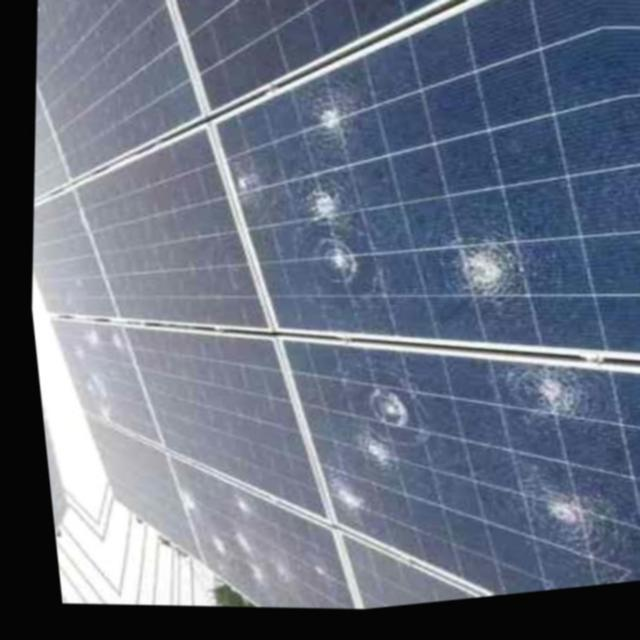cracked: (227, 7, 640, 336), (280, 332, 640, 590), (171, 462, 347, 616), (33, 321, 161, 449)
